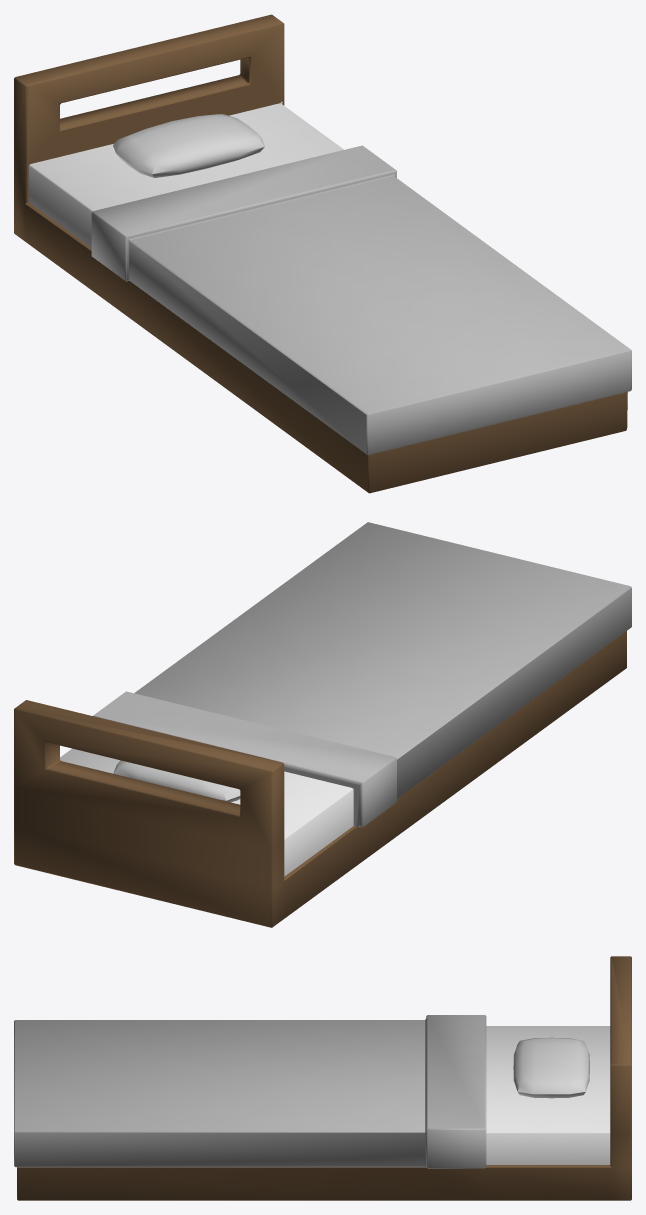
Rendered from Bed_01_04.fbx.
3 renders of one model, top to bottom at view 1: azimuth 30°, elevation 25°; view 2: azimuth 150°, elevation 25°; view 3: azimuth 270°, elevation 25°, orthographic. The views are drawn at different scales.
Visible parts, largest first — view 1: Bed_01_04; view 2: Bed_01_04; view 3: Bed_01_04.
Part boxes in pixels (left/top/right/bottom): Bed_01_04: left=14, top=14, right=631, bottom=493; Bed_01_04: left=14, top=522, right=631, bottom=927; Bed_01_04: left=14, top=956, right=631, bottom=1200.
Bounding box in the file's own units: 1.63 × 0.9009 × 3.71.
